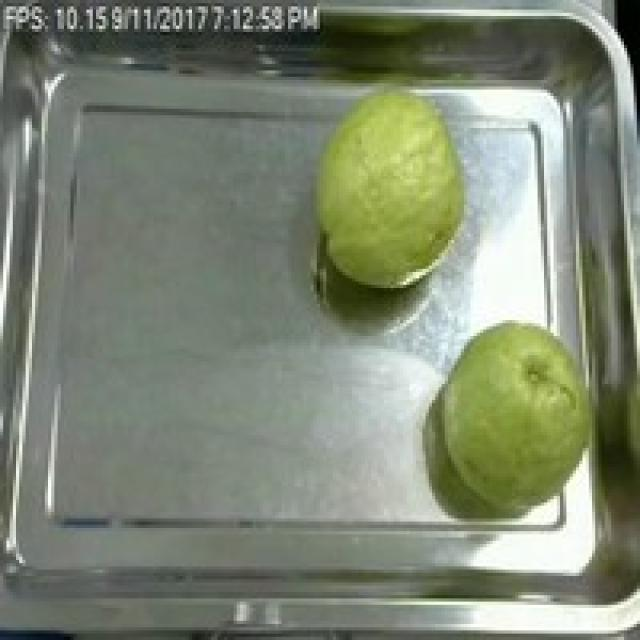Fruit: (419, 308, 611, 534), (298, 80, 480, 301)
